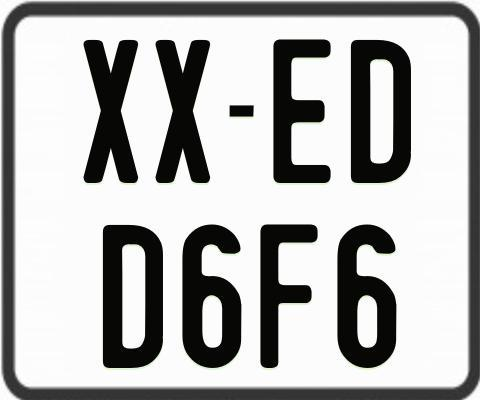6: (336, 225, 396, 373), (179, 223, 240, 368)
D: (350, 38, 414, 184), (101, 224, 165, 370)
E: (272, 37, 334, 183)
F: (260, 223, 324, 369)
X: (154, 39, 214, 188), (81, 37, 136, 182)
